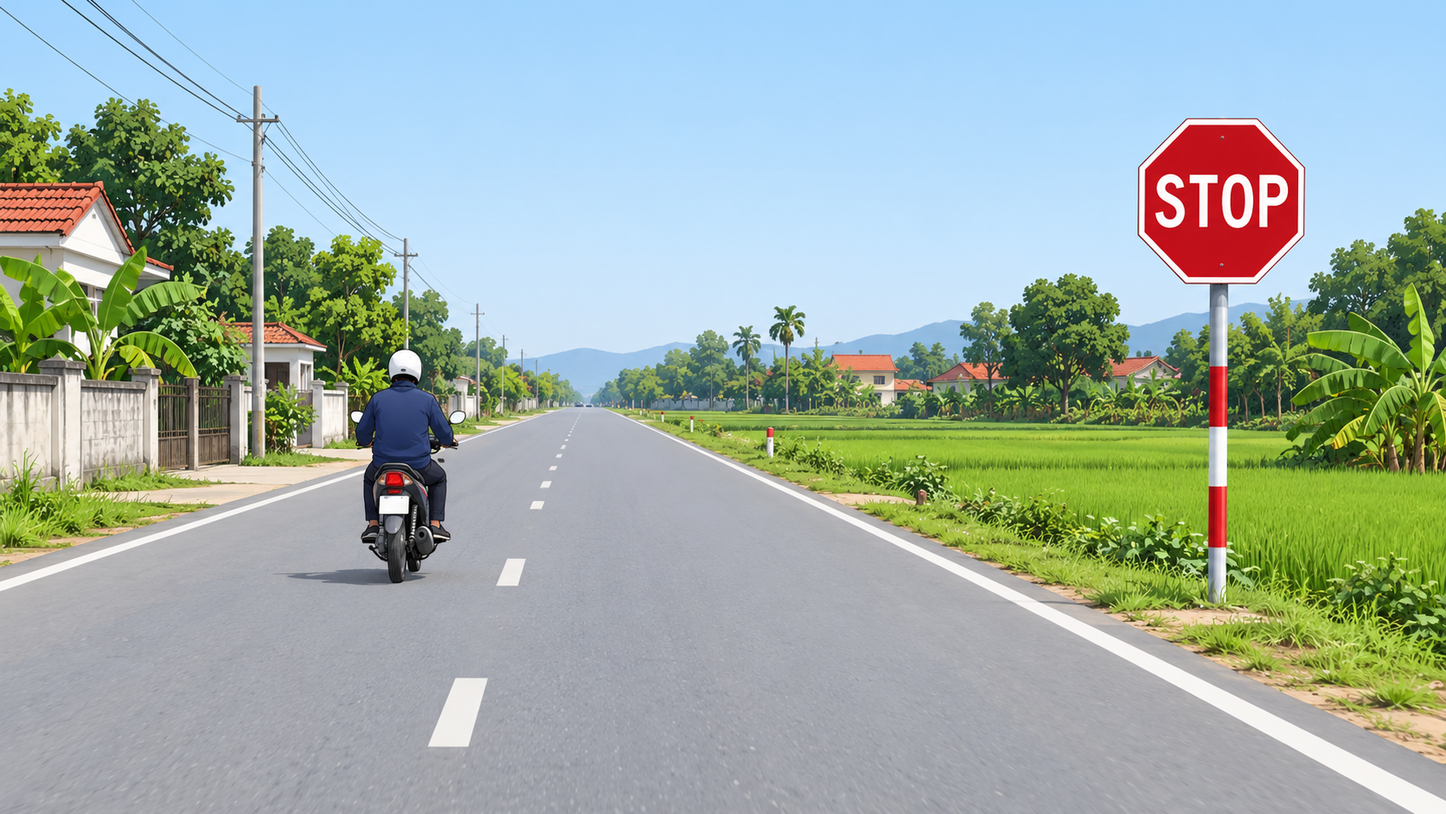motorcycle: (361, 421, 441, 585)
person: (362, 349, 452, 544)
stop_sign: (1137, 118, 1306, 285)
